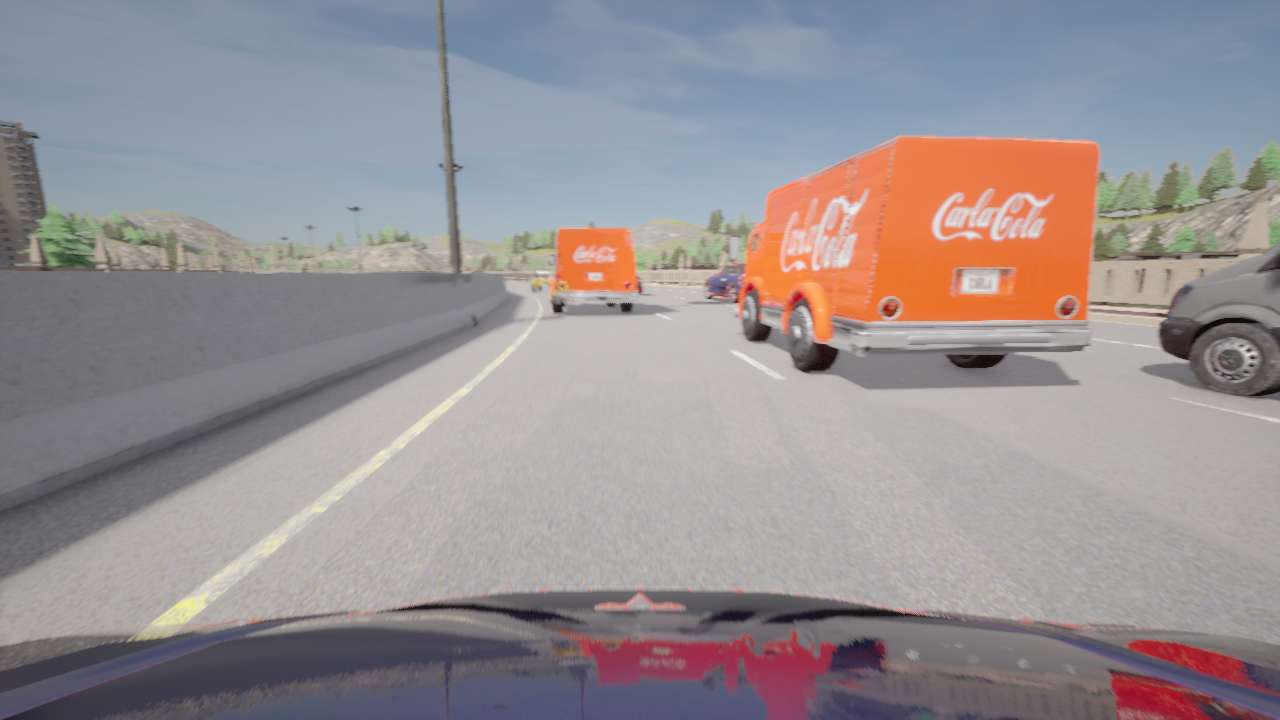cyclist: (0, 588, 1279, 719), (728, 136, 1099, 371), (1159, 242, 1279, 396), (549, 228, 638, 312), (703, 262, 745, 303), (531, 271, 552, 291), (635, 271, 643, 294)
